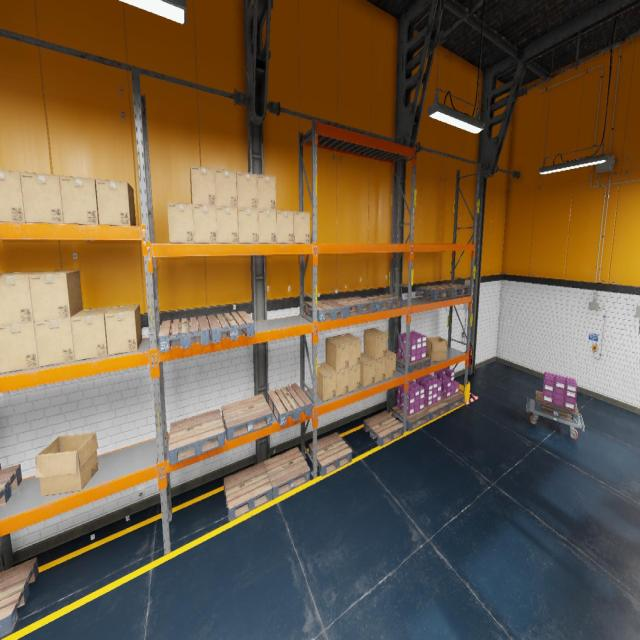box: (35, 432, 98, 496), (28, 270, 82, 321), (0, 271, 46, 325), (20, 172, 64, 224), (71, 306, 112, 361), (34, 318, 75, 367), (0, 322, 39, 373), (60, 176, 100, 224), (105, 304, 142, 355), (96, 179, 136, 226), (0, 169, 25, 222), (168, 202, 195, 243), (190, 164, 216, 206), (193, 204, 217, 243), (215, 168, 238, 207), (326, 335, 349, 371), (236, 171, 258, 208), (216, 206, 238, 243), (338, 333, 361, 367), (318, 363, 337, 401), (238, 207, 258, 243), (257, 173, 276, 210), (364, 328, 386, 359), (364, 352, 386, 382), (329, 365, 349, 396), (258, 209, 276, 243), (276, 210, 294, 243), (360, 353, 376, 387), (426, 336, 447, 361), (294, 211, 310, 243), (349, 364, 360, 392), (386, 349, 396, 379)
pallets: (168, 408, 225, 465), (0, 557, 39, 638), (224, 462, 272, 521), (221, 394, 272, 441), (264, 447, 310, 498), (308, 432, 352, 476), (267, 383, 312, 426), (158, 316, 210, 352), (207, 311, 254, 343), (535, 391, 579, 424), (363, 411, 404, 446), (304, 299, 347, 322), (392, 406, 429, 431), (0, 464, 22, 505), (331, 296, 375, 316), (364, 294, 402, 311), (396, 353, 430, 372), (415, 285, 454, 299), (424, 400, 448, 420), (441, 392, 465, 411), (436, 284, 470, 296)
